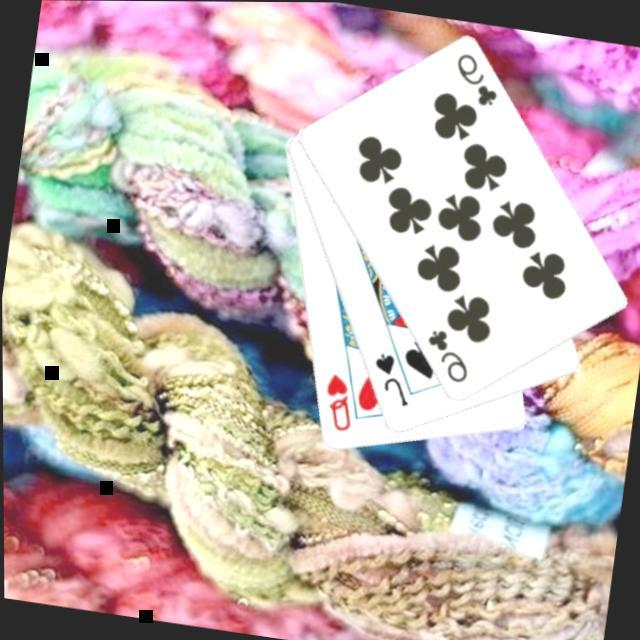9C: (446, 47, 506, 110), (418, 322, 475, 386)
JS: (364, 346, 416, 408)
QH: (316, 368, 360, 434)
